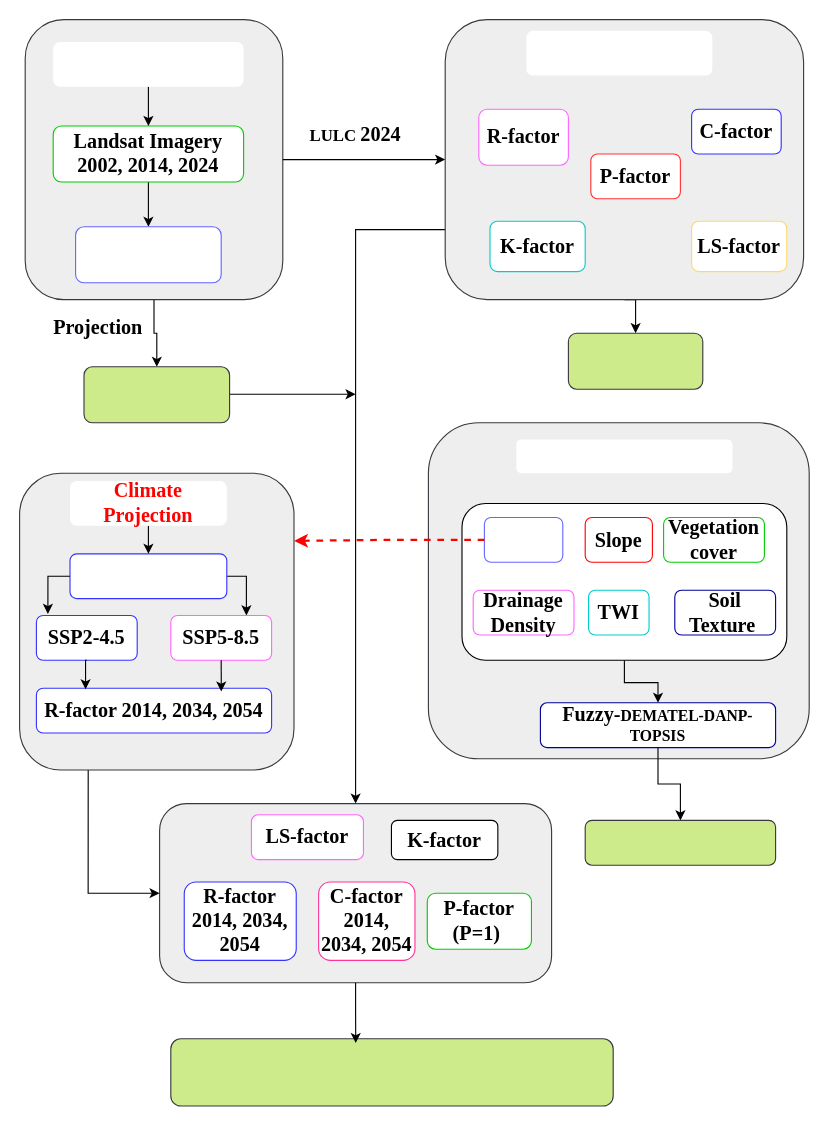
Some shapes in this 829 by 1126 pixel diagram are drawn without their labels. The centre of each missing label's shape, as x and y in pixels:
"CMIP6 Rainfall data" belongs at point 148,576.
"Impact of LULCC dynamic and climate change projection on soil erosion" belongs at point 391,1072.
"LULC maps 2002, 2014, 2024" belongs at point 147,254.
"LULC maps 2034, 2044, 2054" belongs at point 156,394.
"LULCC dynamics" belongs at point 148,63.
"MCDM" belongs at point 624,456.
"Rainfall" belongs at point 523,539.
"RUSLE" belongs at point 619,52.
"Soil Loss map" belongs at point 635,360.
"Watershed Prioritization" belongs at point 680,842.
